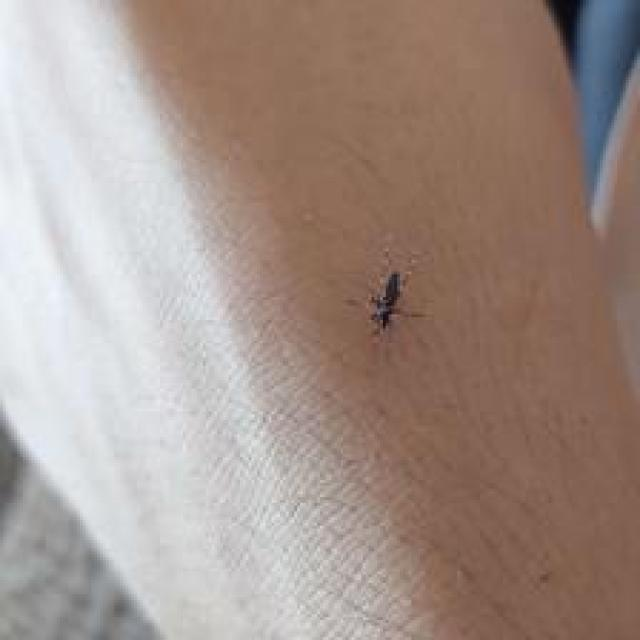Aedes albopictus: (363, 267, 426, 336)
